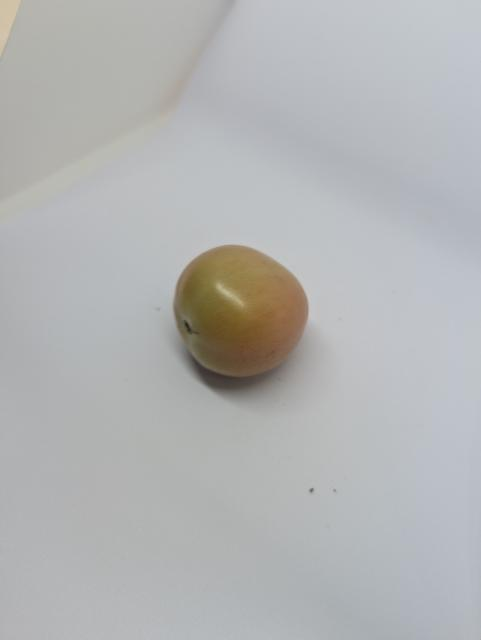breaker: (167, 240, 319, 378)
